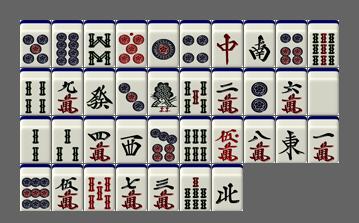0m: (212, 116, 243, 163)
0p: (116, 20, 147, 67)
0s: (84, 164, 115, 211)
1m: (308, 116, 339, 163)
1p: (148, 20, 179, 67)
1s: (148, 68, 179, 115)
1z: (276, 116, 307, 163)
2m: (212, 68, 243, 115)
2p: (244, 68, 275, 115)
2s: (20, 116, 51, 163)
2z: (244, 20, 275, 67)
3m: (148, 164, 179, 211)
3p: (116, 68, 147, 115)
3s: (52, 116, 83, 163)
3z: (116, 116, 147, 163)
4m: (84, 116, 115, 163)
4p: (180, 20, 211, 67)
4s: (20, 68, 51, 115)
4z: (212, 164, 243, 211)
5m: (52, 164, 83, 211)
5p: (20, 20, 51, 67)
5s: (180, 68, 211, 115)
5z: (308, 68, 339, 115)
6m: (276, 68, 307, 115)
6p: (276, 20, 307, 67)
6s: (180, 116, 211, 163)
6z: (84, 68, 115, 115)
7m: (116, 164, 147, 211)
7p: (148, 116, 179, 163)
7s: (180, 164, 211, 211)
7z: (212, 20, 243, 67)
8m: (244, 116, 275, 163)
8p: (52, 20, 83, 67)
8s: (84, 20, 115, 67)
9m: (52, 68, 83, 115)
9p: (20, 164, 51, 211)
9s: (308, 20, 339, 67)
